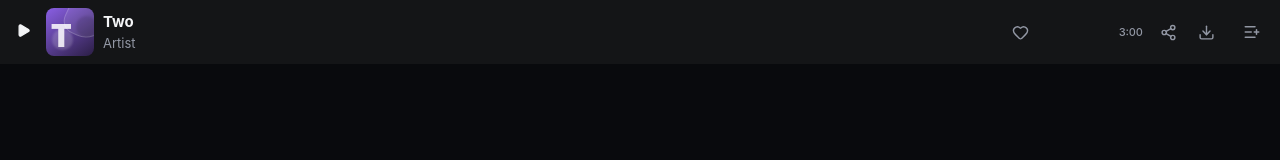
Test case: player like controls › starts playback when the track row itself is clicked
Click the text "Two": click(118, 22) [103,12,134,31]
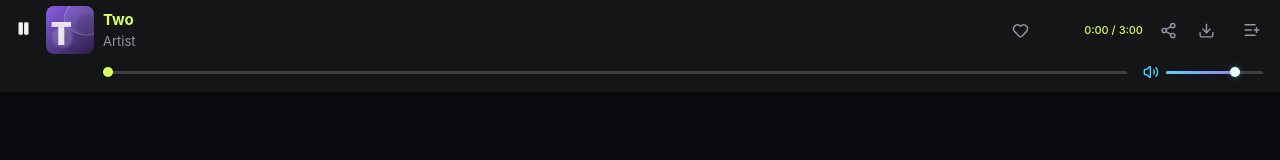
Expected: the button named "Пауза" is shown, [9,14,37,46]
